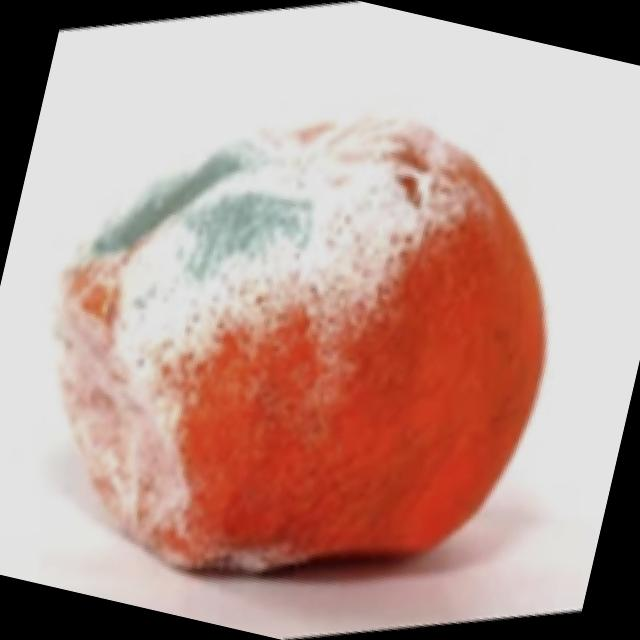Rotten_Orange: (0, 18, 624, 640)
